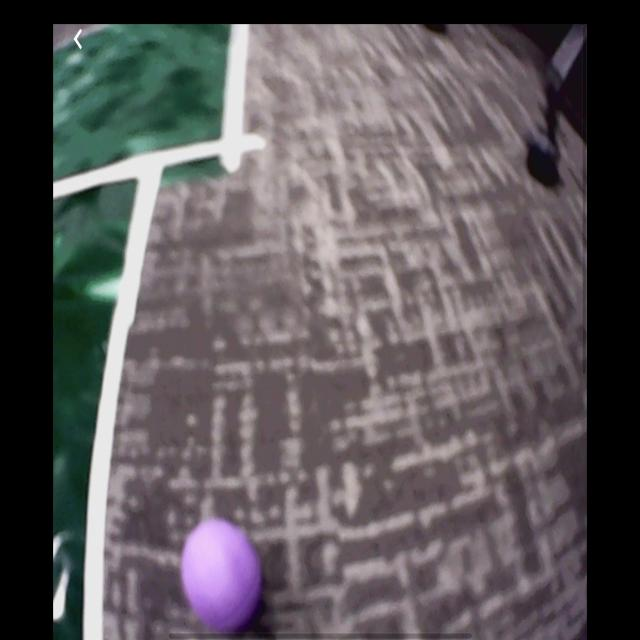ball: (179, 516, 263, 633)
